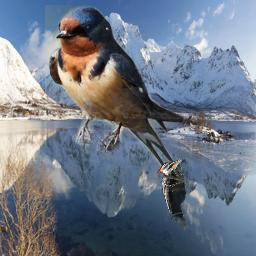Swallow: (45, 5, 183, 180)
Woodpecker: (157, 158, 186, 233)
